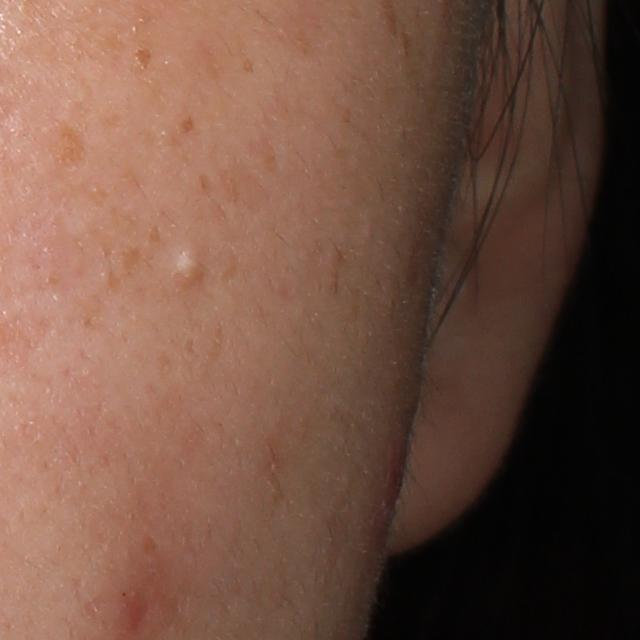melasma: (56, 162, 175, 330), (46, 118, 106, 160)
